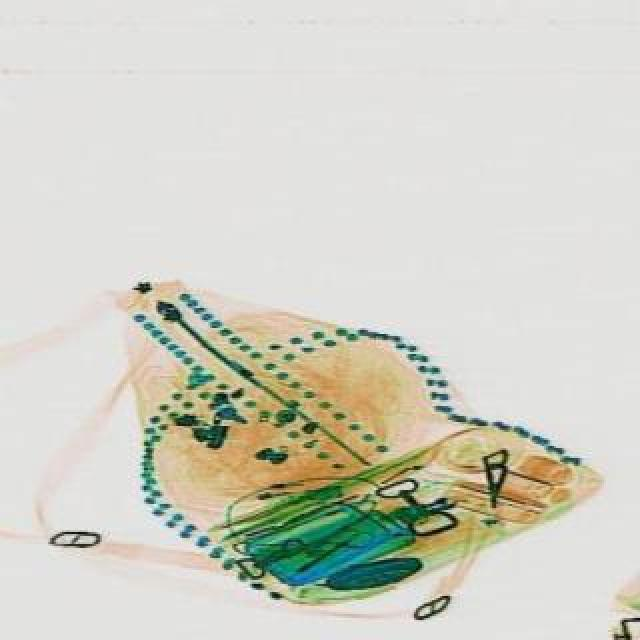pliers: (286, 510, 376, 584)
